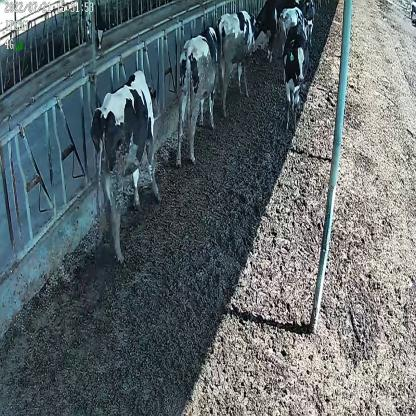cow: (91, 70, 160, 269), (178, 23, 220, 165), (217, 9, 258, 112), (280, 25, 308, 126)
